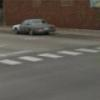cars: (13, 19, 55, 35)
